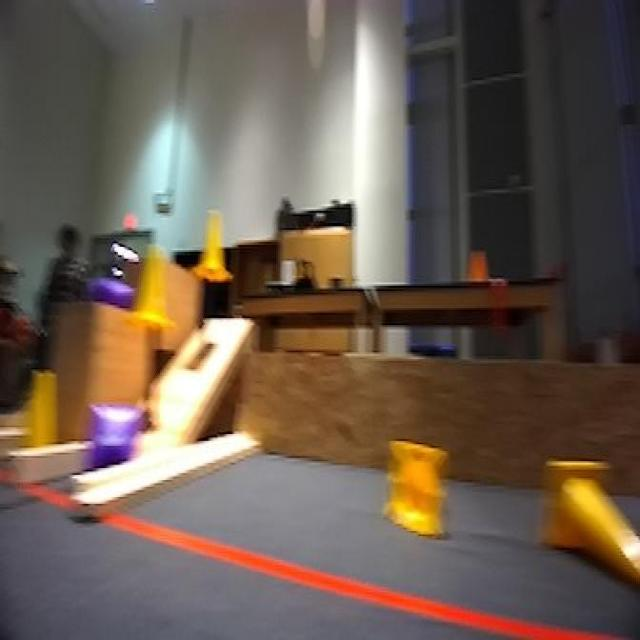frc_cone: (537, 458, 640, 580), (382, 439, 457, 543), (13, 371, 63, 475), (134, 225, 176, 335), (203, 218, 227, 293)
frc_cube: (92, 398, 136, 478), (74, 269, 136, 310)
